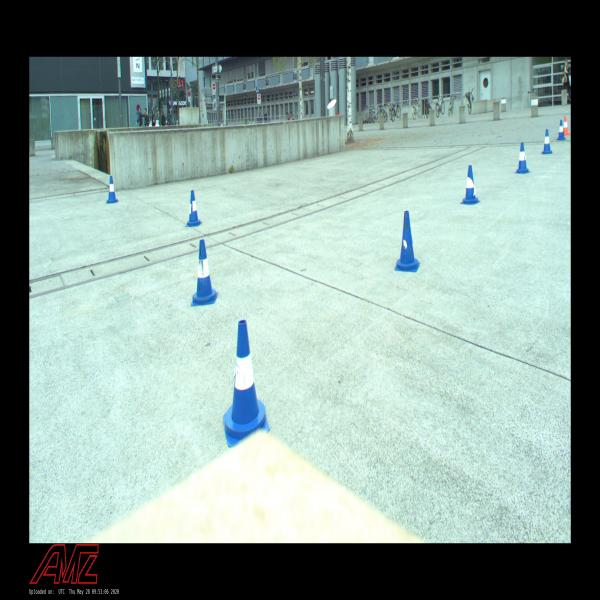blue_cone: (222, 320, 270, 448), (190, 239, 218, 306), (394, 211, 420, 272), (460, 166, 481, 205), (186, 190, 202, 227), (514, 142, 531, 174), (106, 176, 120, 203), (541, 129, 553, 154), (557, 120, 566, 140)
orange_cone: (563, 116, 570, 136)
